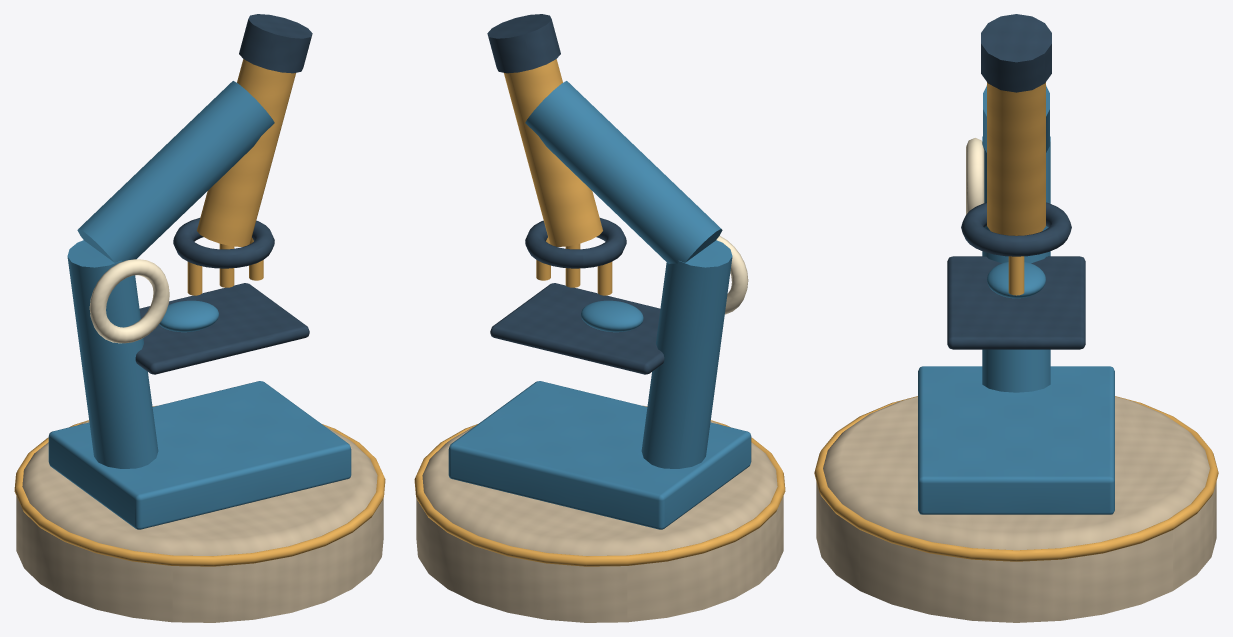
The model's file is learning_lab.glb.
The picture shows the model from 3 angles, left to right: view 1: azimuth 30°, elevation 25°; view 2: azimuth 150°, elevation 25°; view 3: azimuth 270°, elevation 25°; orthographic projection. The views are drawn at different scales.
Visible parts, largest first — view 1: learning_lab_lod0; view 2: learning_lab_lod0; view 3: learning_lab_lod0.
Part boxes in pixels (x1=…): learning_lab_lod0: x1=14, y1=14, x2=385, y2=622; learning_lab_lod0: x1=414, y1=14, x2=785, y2=622; learning_lab_lod0: x1=814, y1=14, x2=1218, y2=622.
Size of what is drawn, in the model's own units: 6.57 by 9.9 by 6.57.
Materials: 5 (5 with a texture image).
